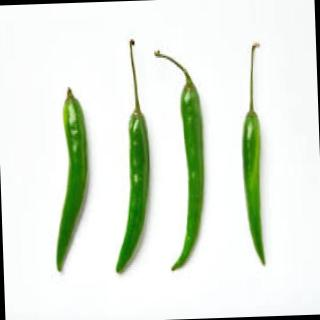Cabai Hijau: (159, 50, 211, 275), (48, 88, 98, 271), (109, 106, 161, 272), (241, 104, 271, 266)
